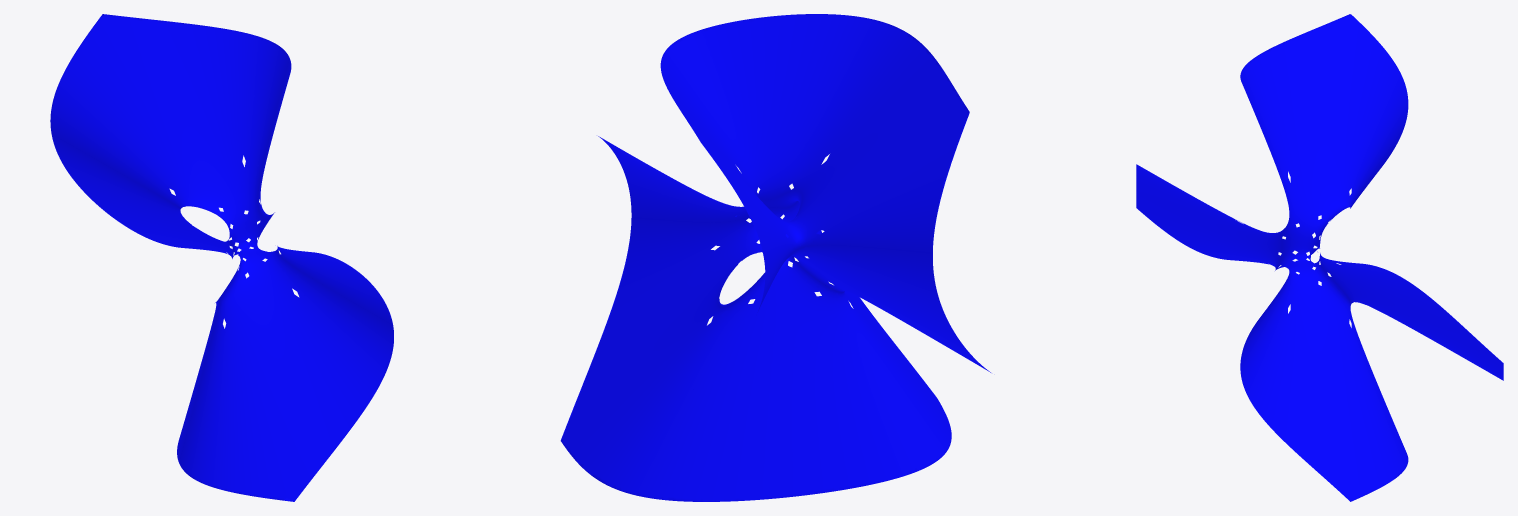
The model's file is clebsch-all-lines-removed-final-only-single-rem.glb.
3 renders of one model, left to right at view 1: azimuth 30°, elevation 25°; view 2: azimuth 150°, elevation 25°; view 3: azimuth 270°, elevation 25°, orthographic. The views are drawn at different scales.
Visible parts, largest first — view 1: Clebsch.037, Clebsch.019, Clebsch-Doub-rem.026, Clebsch.020, Clebsch.014, Clebsch.041, Clebsch.030, Clebsch.029, Clebsch.010, Clebsch-Doub-rem.011, Clebsch.017, Clebsch-Doub-rem.012 (+5 smaller); view 2: Clebsch.034, Clebsch.019, Clebsch.038, Clebsch.021, Clebsch.042, Clebsch-Doub-rem.002, Clebsch.035, Clebsch-Doub-rem.025, Clebsch.028, Clebsch.030, Clebsch.041, Clebsch.016 (+16 smaller); view 3: Clebsch.025, Clebsch-Doub-rem.025, Clebsch.038, Clebsch.034, Clebsch.030, Clebsch.012, Clebsch.016, Clebsch.028, Clebsch-Doub-rem.017, Clebsch.042, Clebsch.009, Clebsch-Doub-rem.009 (+10 smaller).
Part boxes in pixels (x1=…): Clebsch.037: x1=50, y1=16, x2=206, y2=237; Clebsch.019: x1=177, y1=304, x2=291, y2=501; Clebsch-Doub-rem.026: x1=51, y1=14, x2=265, y2=208; Clebsch.020: x1=289, y1=271, x2=393, y2=428; Clebsch.014: x1=215, y1=267, x2=320, y2=499; Clebsch.041: x1=192, y1=24, x2=290, y2=180; Clebsch.030: x1=105, y1=14, x2=222, y2=218; Clebsch.029: x1=148, y1=19, x2=251, y2=229; Clebsch.010: x1=244, y1=256, x2=348, y2=463; Clebsch-Doub-rem.011: x1=188, y1=269, x2=390, y2=501; Clebsch.017: x1=277, y1=246, x2=385, y2=303; Clebsch-Doub-rem.012: x1=260, y1=253, x2=393, y2=352; Clebsch.034: x1=561, y1=300, x2=782, y2=501; Clebsch.019: x1=789, y1=293, x2=951, y2=489; Clebsch.038: x1=802, y1=115, x2=968, y2=334; Clebsch.021: x1=707, y1=14, x2=828, y2=199; Clebsch.042: x1=808, y1=14, x2=940, y2=169; Clebsch-Doub-rem.002: x1=653, y1=266, x2=922, y2=501; Clebsch.035: x1=754, y1=309, x2=839, y2=499; Clebsch-Doub-rem.025: x1=796, y1=30, x2=969, y2=261; Clebsch.028: x1=601, y1=180, x2=732, y2=336; Clebsch.030: x1=688, y1=91, x2=968, y2=245; Clebsch.041: x1=660, y1=29, x2=748, y2=177; Clebsch.016: x1=581, y1=233, x2=762, y2=387; Clebsch.025: x1=1321, y1=274, x2=1500, y2=499; Clebsch-Doub-rem.025: x1=1247, y1=14, x2=1407, y2=218; Clebsch.038: x1=1350, y1=16, x2=1408, y2=207; Clebsch.034: x1=1351, y1=313, x2=1408, y2=501; Clebsch.030: x1=1321, y1=15, x2=1350, y2=226; Clebsch.012: x1=1290, y1=27, x2=1318, y2=240; Clebsch.016: x1=1290, y1=267, x2=1318, y2=471; Clebsch.028: x1=1240, y1=287, x2=1288, y2=444; Clebsch-Doub-rem.017: x1=1244, y1=280, x2=1406, y2=501; Clebsch.042: x1=1240, y1=40, x2=1288, y2=195; Clebsch.009: x1=1136, y1=179, x2=1297, y2=254; Clebsch-Doub-rem.009: x1=1136, y1=165, x2=1279, y2=263.
Bounding box in the file's own units: 4 × 4 × 4.
